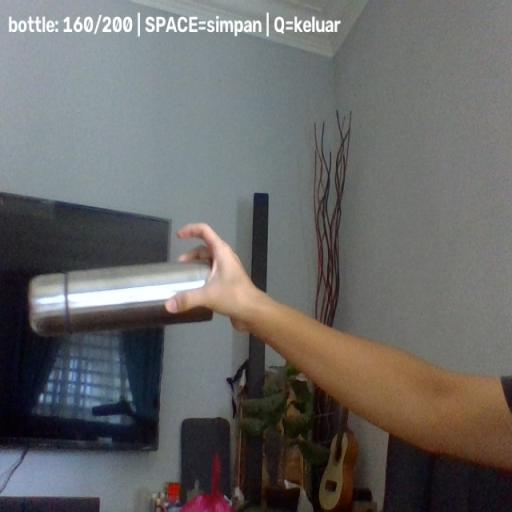Bottle: (28, 260, 214, 335)
